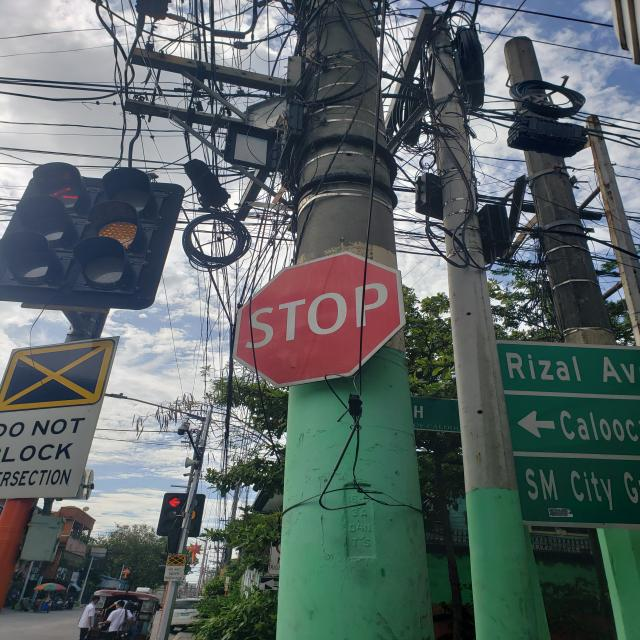stop-sign: (232, 250, 407, 388)
